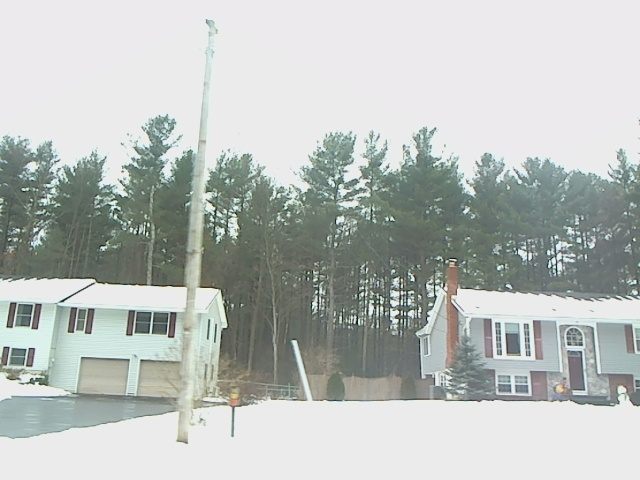Ploughed: (5, 385, 175, 441)
